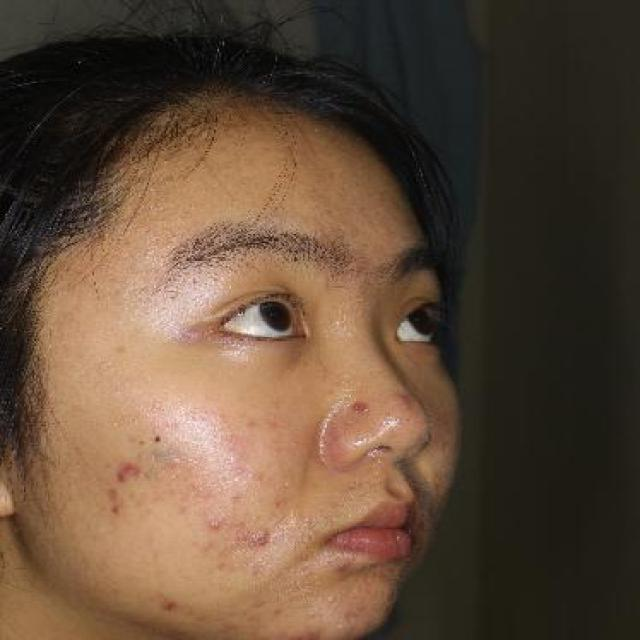dark spot: (156, 596, 181, 616)
papules: (387, 391, 414, 409), (346, 400, 370, 418)
pustules: (250, 530, 277, 548), (207, 517, 226, 532)
